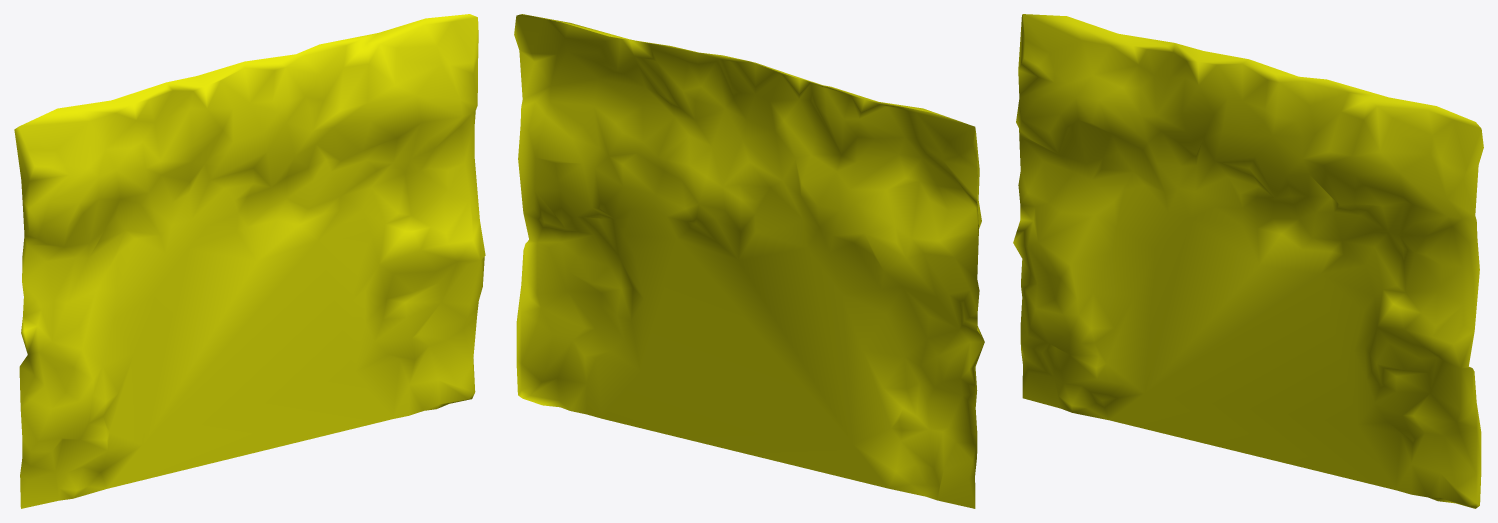
The model's file is scp_s01_cavewall_01.fbx.
3 renders of one model, left to right at view 1: azimuth 30°, elevation 25°; view 2: azimuth 150°, elevation 25°; view 3: azimuth 330°, elevation 25°, orthographic.
Parts seen in each view (by area): view 1: zb_scp_s01_separator_01_LOW:polySurface5428; view 2: zb_scp_s01_separator_01_LOW:polySurface5428; view 3: zb_scp_s01_separator_01_LOW:polySurface5428.
Boxes of the visible parts, x1,y1,x2,y2 form: zb_scp_s01_separator_01_LOW:polySurface5428: (14,14,485,508); zb_scp_s01_separator_01_LOW:polySurface5428: (514,14,984,508); zb_scp_s01_separator_01_LOW:polySurface5428: (1013,14,1483,508).
Size of the model in its own units: 650 by 529 by 41.67.
